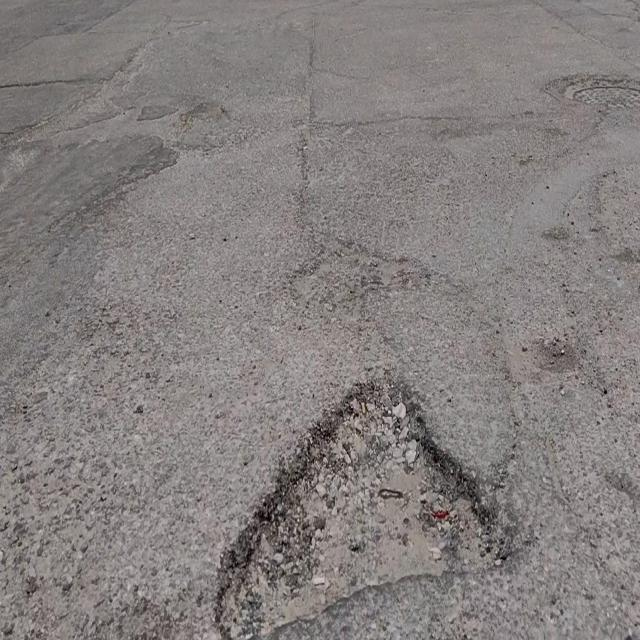Potholes: (213, 375, 515, 640)
